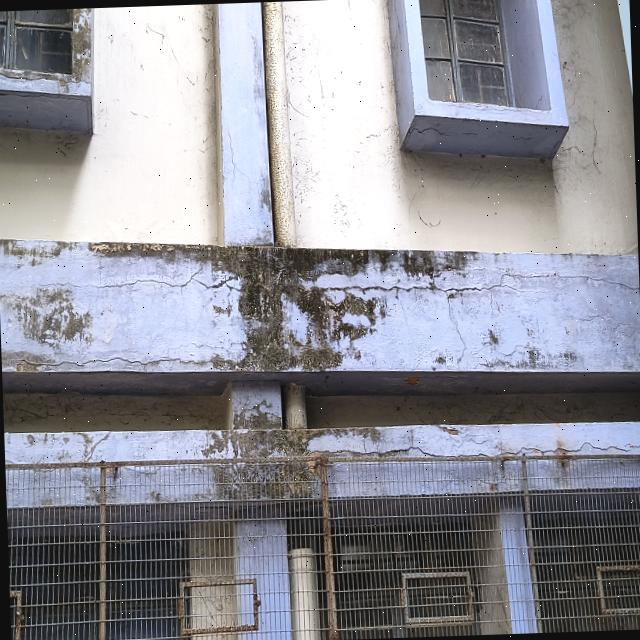crack: (298, 270, 639, 327), (34, 261, 254, 303), (0, 89, 93, 135), (0, 50, 93, 94), (224, 118, 265, 196), (9, 356, 215, 369), (429, 100, 554, 118), (307, 445, 490, 457), (494, 440, 582, 456), (401, 125, 452, 146), (579, 441, 632, 453), (455, 319, 467, 369), (466, 431, 502, 445), (500, 343, 525, 359), (461, 433, 485, 439), (508, 135, 534, 140), (460, 130, 478, 136), (624, 442, 640, 447)
peeling: (433, 425, 473, 435)
stain_mould: (5, 454, 640, 640), (0, 239, 466, 371), (202, 385, 380, 500), (0, 8, 91, 79), (0, 286, 93, 349), (179, 578, 258, 636), (420, 572, 473, 622), (596, 564, 640, 614), (9, 591, 24, 640), (402, 573, 409, 623)
